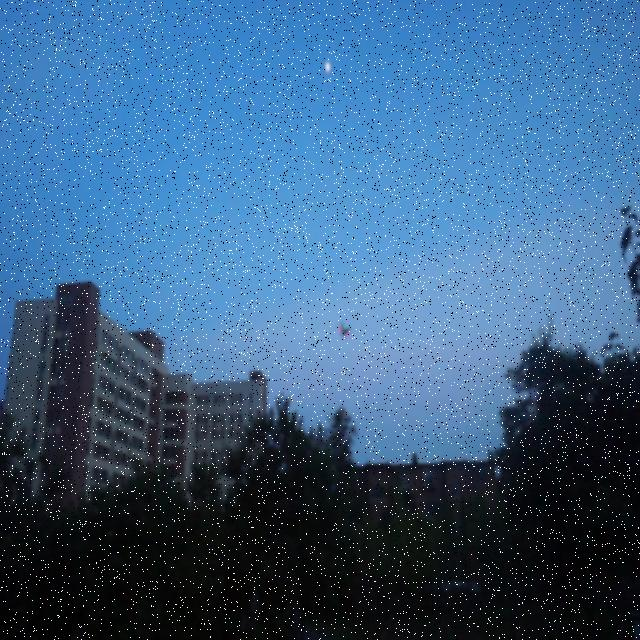UAV: (338, 322, 351, 341)
